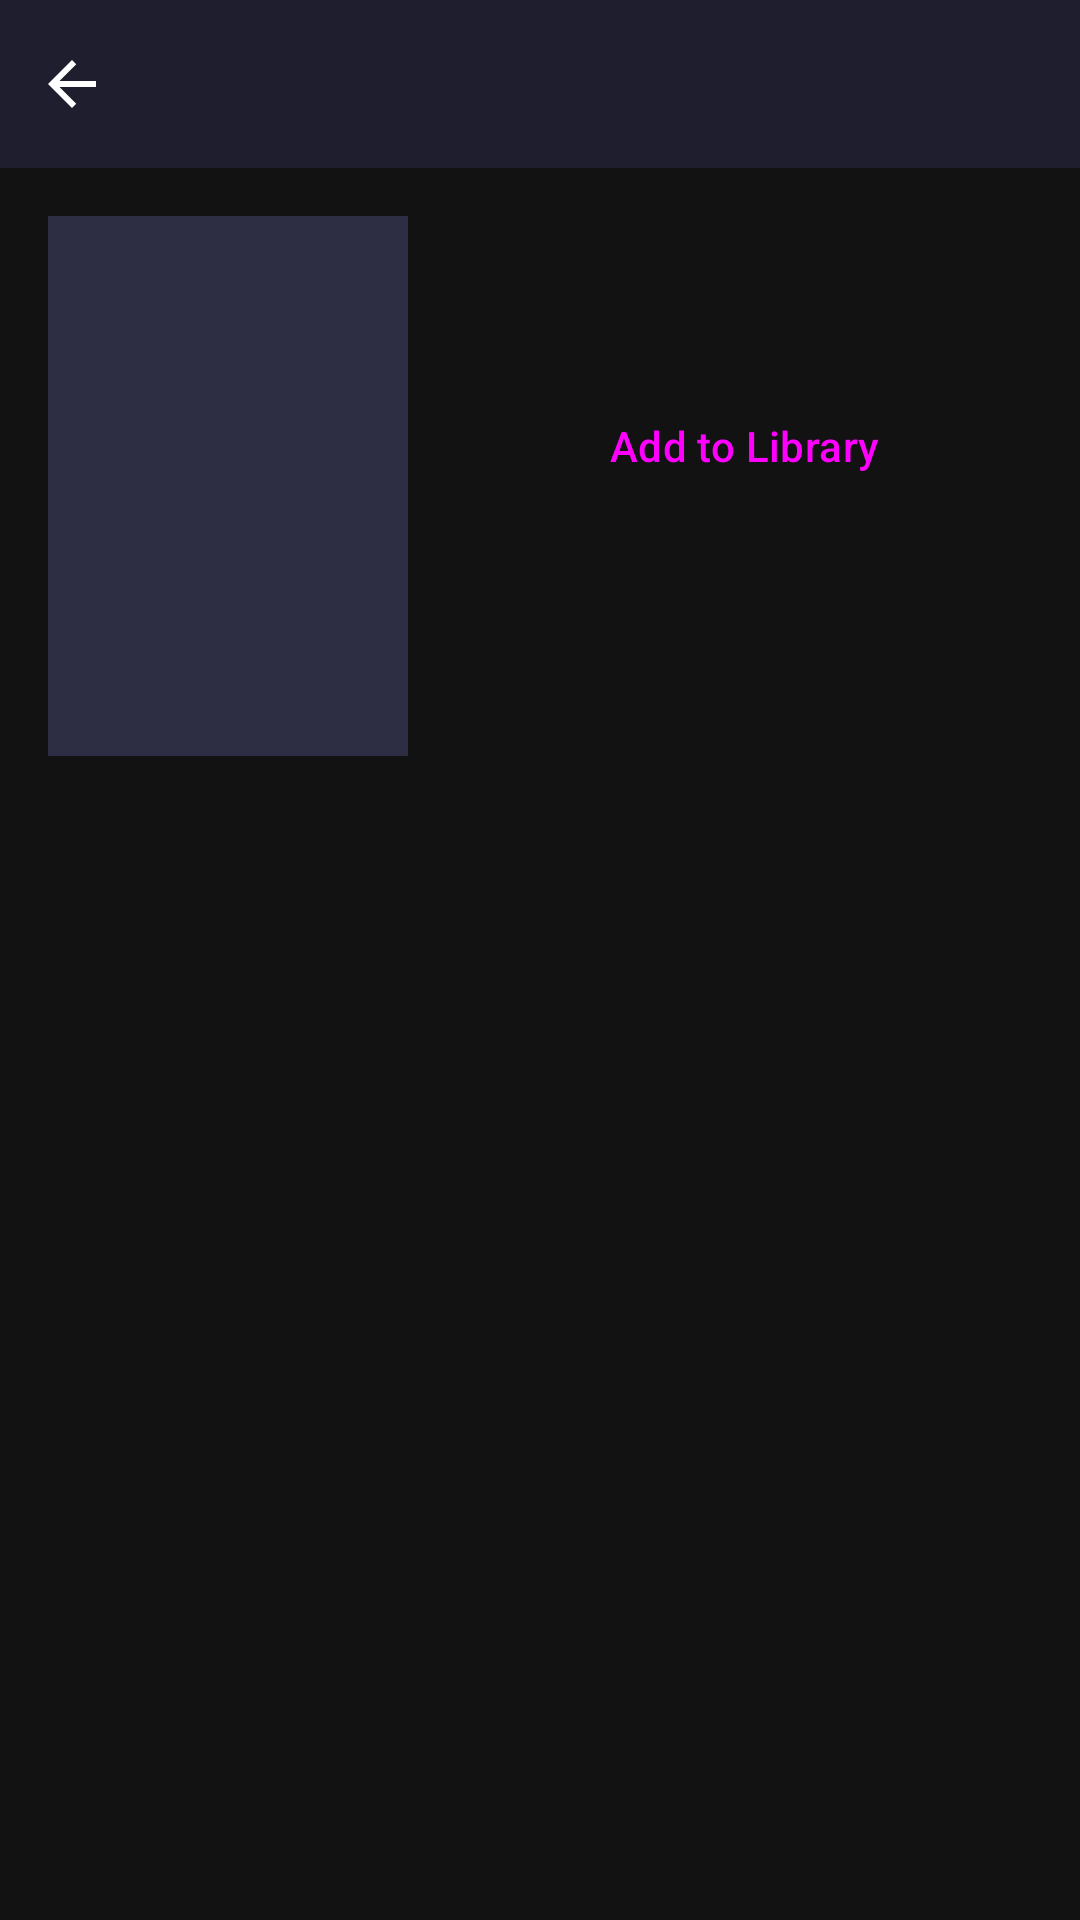

Icon bounding boxes for this 1080 × 1920 phone screenshot, format (x1, y1, x2, y2):
Back: (48, 60, 96, 108)
